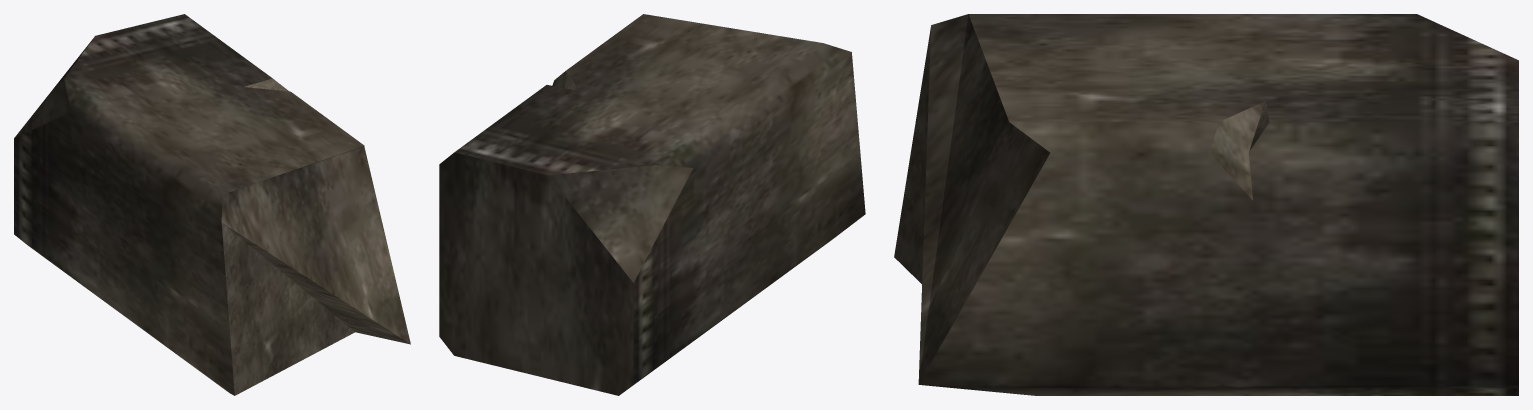
3 views of the same model, side by side, from view 1: azimuth 30°, elevation 25°; view 2: azimuth 150°, elevation 25°; view 3: azimuth 270°, elevation 25° (orthographic). The views are drawn at different scales.
Visible parts, largest first — view 1: model_object25; view 2: model_object25; view 3: model_object25.
Boxes of the visible parts, x1,y1,x2,y2 form: model_object25: [14, 14, 410, 395]; model_object25: [439, 14, 865, 395]; model_object25: [894, 14, 1518, 395].
Size of the model in its own units: 0.6154 by 0.6154 by 1.27.
1 material, 1 textured.
